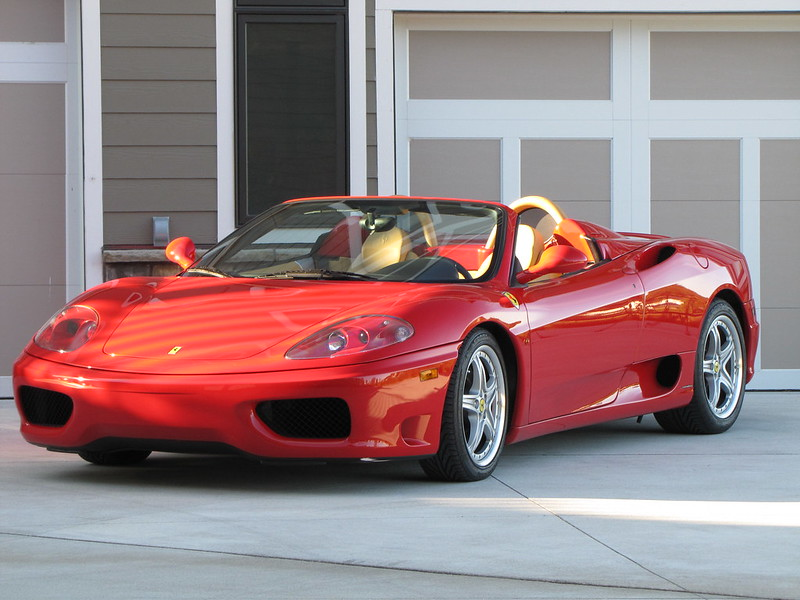car: (10, 192, 764, 488)
